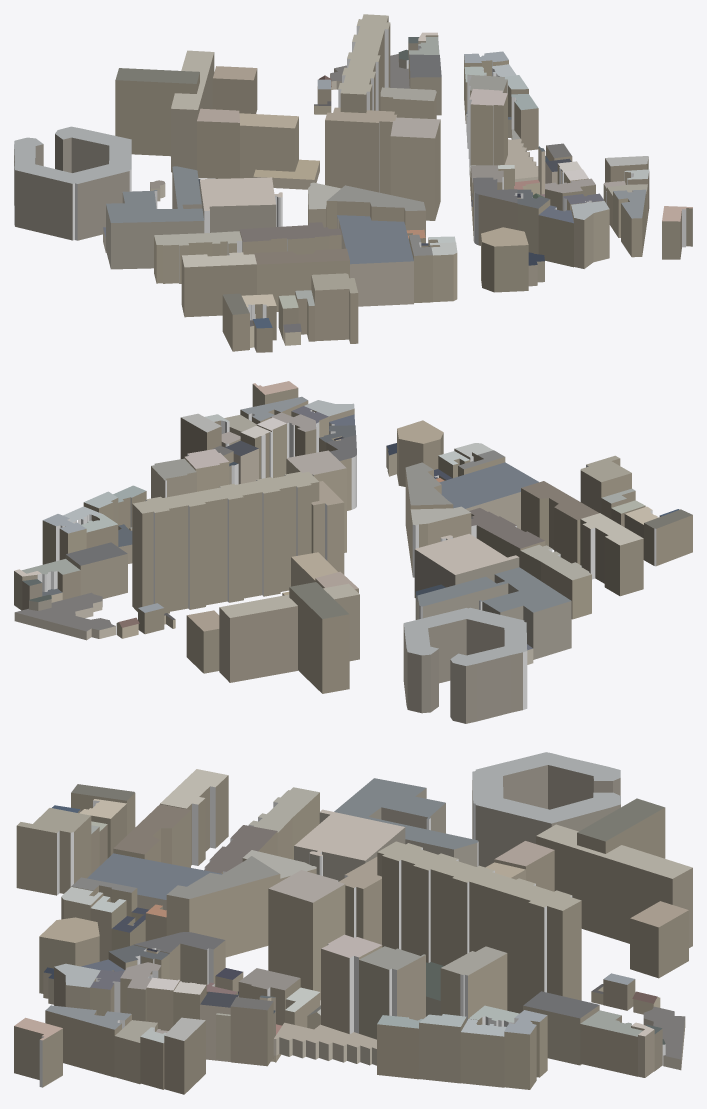
3 views of the same model, one above another, from view 1: azimuth 30°, elevation 25°; view 2: azimuth 150°, elevation 25°; view 3: azimuth 270°, elevation 25° (orthographic). The views are drawn at different scales.
Visible parts, largest first — view 1: tuile; view 2: tuile; view 3: tuile.
Part boxes in pixels (x1,y1,x2,y2): tuile: [14, 14, 692, 352]; tuile: [14, 381, 692, 723]; tuile: [14, 752, 692, 1094].
Bounding box in the file's own units: 278 × 62.39 × 272.
